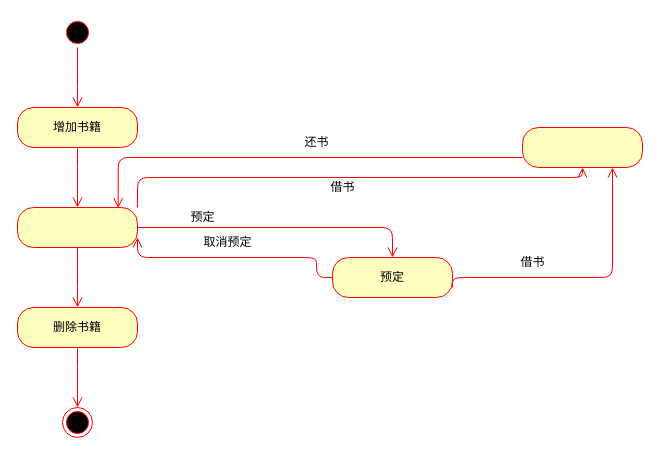
The diagram is 660 pixels wide and 455 high, and some of its shapes have lost their labels. Each missing label, with the centre of its shape:
书籍借出: point 582,147
在库书籍: point 77,227
